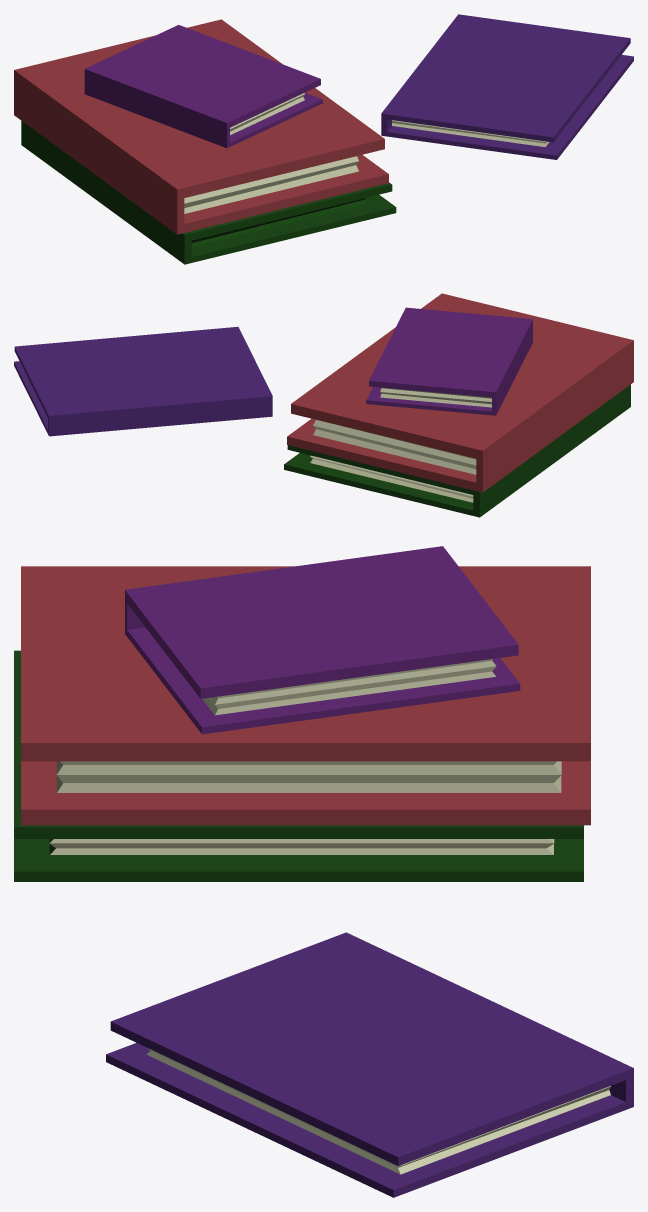
The model's file is libros_color.fbx.
3 renders of one model, top to bottom at view 1: azimuth 30°, elevation 25°; view 2: azimuth 150°, elevation 25°; view 3: azimuth 270°, elevation 25°, orthographic. The views are drawn at different scales.
Parts seen in each view (by area): view 1: Cubo.001, Cubo.003, Cubo.002, Cubo; view 2: Cubo.001, Cubo.003, Cubo.002, Cubo; view 3: Cubo.001, Cubo.003, Cubo.002, Cubo.
Boxes of the visible parts, left/top/right/bottom form: Cubo.001: left=14, top=19, right=388, bottom=234; Cubo.003: left=381, top=14, right=633, bottom=159; Cubo.002: left=84, top=25, right=322, bottom=148; Cubo: left=21, top=121, right=396, bottom=264; Cubo.001: left=287, top=293, right=633, bottom=492; Cubo.003: left=14, top=326, right=272, bottom=436; Cubo.002: left=366, top=307, right=532, bottom=415; Cubo: left=284, top=384, right=630, bottom=517; Cubo.001: left=21, top=566, right=590, bottom=825; Cubo.003: left=106, top=932, right=633, bottom=1197; Cubo.002: left=125, top=546, right=520, bottom=734; Cubo: left=14, top=650, right=583, bottom=881.
Bounding box in the file's own units: 533 × 101 × 291.
